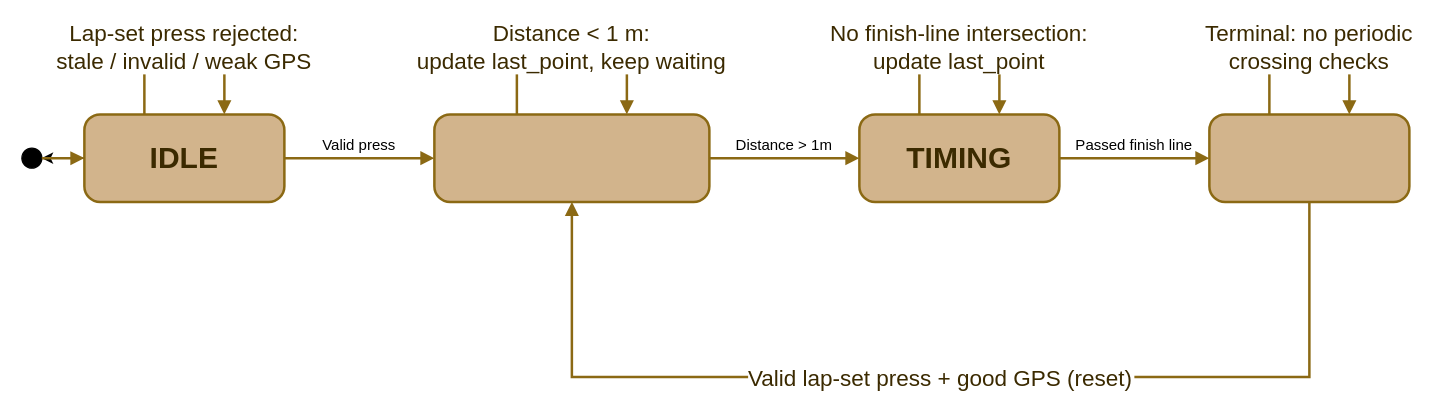
This 1436x413 diagram has some shape labels left out. The centre of each missing label's shape, as x and y in pixels:
"CAPTURING_HEADING" belongs at pixel 571 157.
"COMPLETE" belongs at pixel 1309 157.
